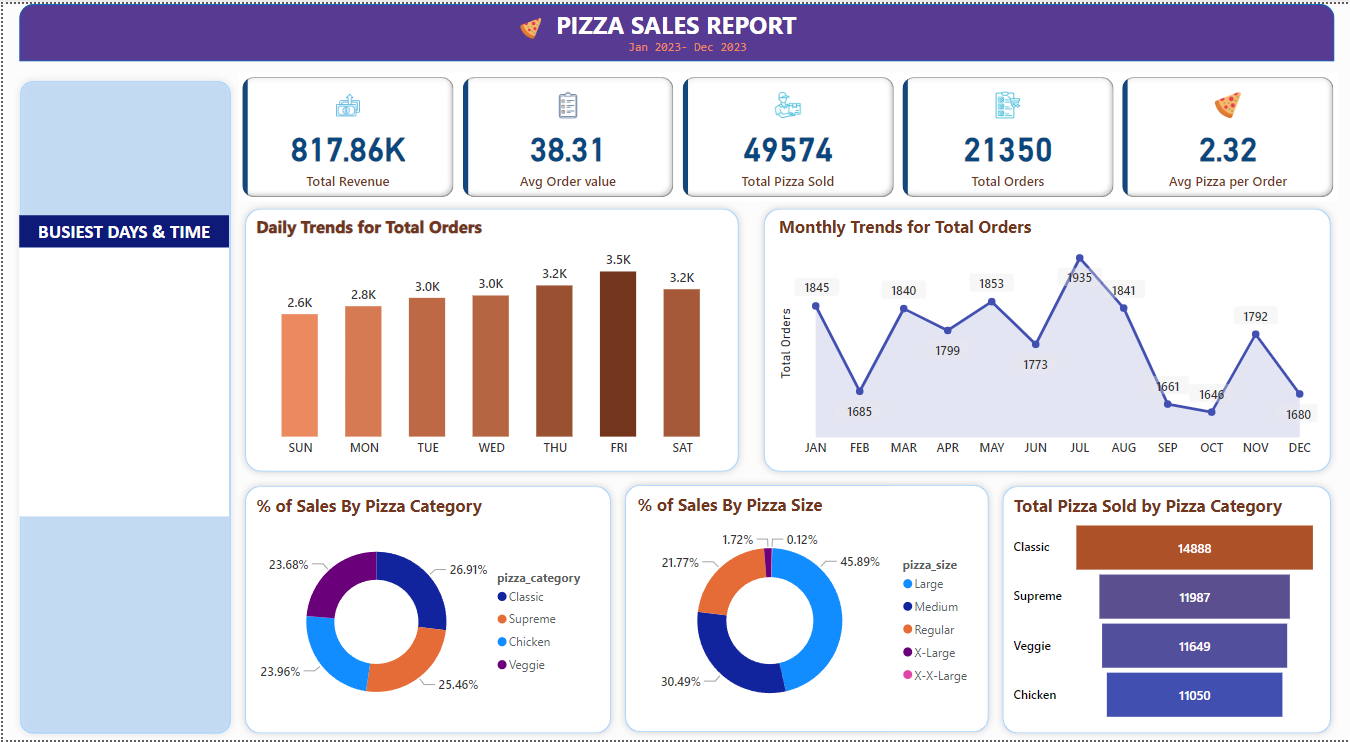

Layout of this report page (visuals, bound fields, positions):
{"tool":"powerbi","page":{"name":"Home","canvas":[1500,820],"ordinal":0},"visuals":[{"type":"shape","box":[11.1,76.6,250.6,742],"z":0},{"type":"cardVisual","fields":{"Data":["pizza_sales.Total Revenue","pizza_sales.Avg Order value","pizza_sales.Total Pizza Sold","pizza_sales.Total Orders","pizza_sales.Avg Pizza per Order"]},"box":[261.7,76.6,1225.1,143.4],"z":1000},{"type":"shape","box":[18.1,0,1464.6,64],"z":2000},{"type":"textbox","box":[604.2,0,291,50.1],"z":3000},{"type":"textbox","box":[685,33.4,154.5,30.6],"z":4000},{"type":"image","box":[570.8,0,33.4,54.3],"z":5000},{"type":"shape","box":[261.7,220,565.2,309.1],"z":6000},{"type":"columnChart","title":"Daily Trends for Total Orders","fields":{"Category":["pizza_sales.Order Day"],"Y":["pizza_sales.Total Orders"]},"box":[277,235.3,534.6,278.4],"z":7000},{"type":"shape","box":[839.5,220,647.4,309.1],"z":8000},{"type":"areaChart","title":"Monthly Trends for Total Orders","fields":{"Y":["pizza_sales.Total Orders"],"Category":["pizza_sales.Order Month"]},"box":[859,235.3,609.8,278.4],"z":9000},{"type":"shape","box":[261.7,529,423.2,291],"z":10000},{"type":"shape","box":[685,527.6,420.4,291],"z":11000},{"type":"shape","box":[1105.4,529,381.5,291],"z":12000},{"type":"donutChart","title":"% of Sales By Pizza Category","fields":{"Category":["pizza_sales.pizza_category"],"Y":["pizza_sales.Total Revenue"]},"box":[277,543,387,260.3],"z":13000},{"type":"donutChart","title":"% of Sales By Pizza Size","fields":{"Y":["pizza_sales.Total Revenue"],"Category":["pizza_sales.pizza_size"]},"box":[701.7,544.3,387,260.3],"z":14000},{"type":"funnel","title":"Total Pizza Sold by Pizza Category","fields":{"Category":["pizza_sales.pizza_category"],"Y":["pizza_sales.Total Pizza Sold"]},"box":[1120.7,545.7,348,258.9],"z":15000},{"type":"textbox","box":[18.1,235.3,233.9,36.2],"z":16000},{"type":"textbox","box":[18.1,271.5,233.9,242.2],"z":17000},{"type":"textbox","box":[19.5,565.2,233.9,253.4],"z":18000},{"type":"textbox","box":[19.5,529,233.9,36.2],"z":19000},{"type":"slicer","fields":{"Values":["pizza_sales.pizza_category"]},"box":[938.3,1.4,225.5,62.6],"z":19001},{"type":"slicer","fields":{"Values":["pizza_sales.order_date"]},"box":[1163.9,0,218.6,64],"z":19002},{"type":"pageNavigator","box":[35.3,106,202.4,53],"z":19003},{"type":"pageNavigator","box":[35.3,167.1,202.4,53],"z":19004},{"type":"image","box":[194.4,98,43.4,69.1],"z":19005},{"type":"image","box":[35.3,106,48.2,56.2],"z":19006},{"type":"image","box":[35.3,167.1,48.2,53],"z":19007}]}

Visuals, with their boxes in screenshot pixels (x1, y1, x2, y2), scaled from the page's 1500x820 canvas onto the 1350x742 screenshot:
shape: [left=10, top=69, right=236, bottom=741]
cardVisual - pizza_sales.Total Revenue x pizza_sales.Avg Order value: [left=236, top=69, right=1338, bottom=199]
shape: [left=16, top=0, right=1334, bottom=58]
textbox: [left=544, top=0, right=806, bottom=45]
textbox: [left=616, top=30, right=756, bottom=58]
image: [left=514, top=0, right=544, bottom=49]
shape: [left=236, top=199, right=744, bottom=479]
"Daily Trends for Total Orders" columnChart: [left=249, top=213, right=730, bottom=465]
shape: [left=756, top=199, right=1338, bottom=479]
"Monthly Trends for Total Orders" areaChart: [left=773, top=213, right=1322, bottom=465]
shape: [left=236, top=479, right=616, bottom=741]
shape: [left=616, top=477, right=995, bottom=741]
shape: [left=995, top=479, right=1338, bottom=741]
"% of Sales By Pizza Category" donutChart: [left=249, top=491, right=598, bottom=727]
"% of Sales By Pizza Size" donutChart: [left=632, top=493, right=980, bottom=728]
"Total Pizza Sold by Pizza Category" funnel: [left=1009, top=494, right=1322, bottom=728]
textbox: [left=16, top=213, right=227, bottom=246]
textbox: [left=16, top=246, right=227, bottom=465]
textbox: [left=18, top=511, right=228, bottom=741]
textbox: [left=18, top=479, right=228, bottom=511]
slicer - pizza_sales.pizza_category: [left=844, top=1, right=1047, bottom=58]
slicer - pizza_sales.order_date: [left=1048, top=0, right=1244, bottom=58]
pageNavigator: [left=32, top=96, right=214, bottom=144]
pageNavigator: [left=32, top=151, right=214, bottom=199]
image: [left=175, top=89, right=214, bottom=151]
image: [left=32, top=96, right=75, bottom=147]
image: [left=32, top=151, right=75, bottom=199]
